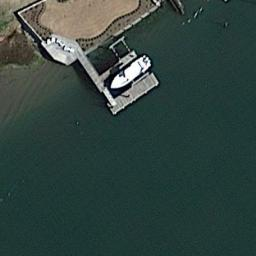boat: (107, 55, 151, 90)
